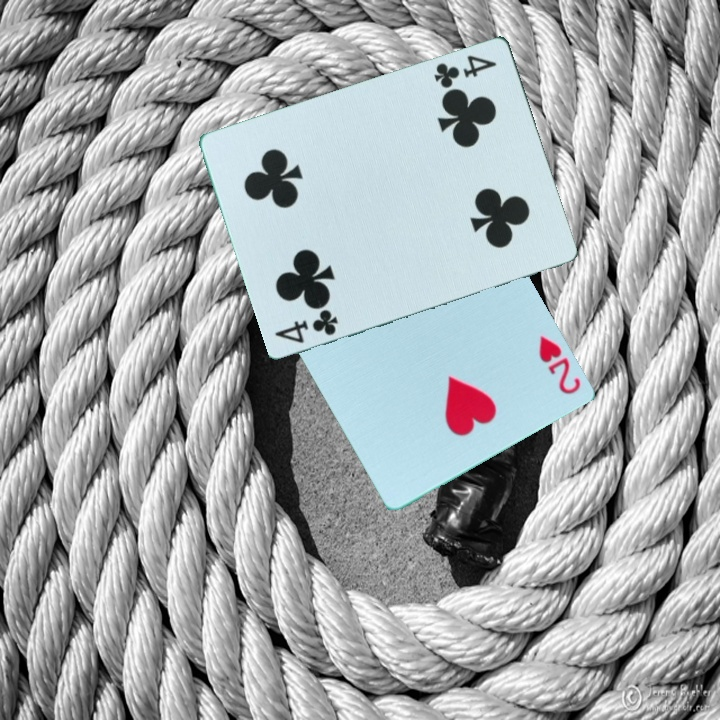2h: (534, 332, 583, 398)
4c: (272, 305, 342, 346), (431, 50, 500, 91)
